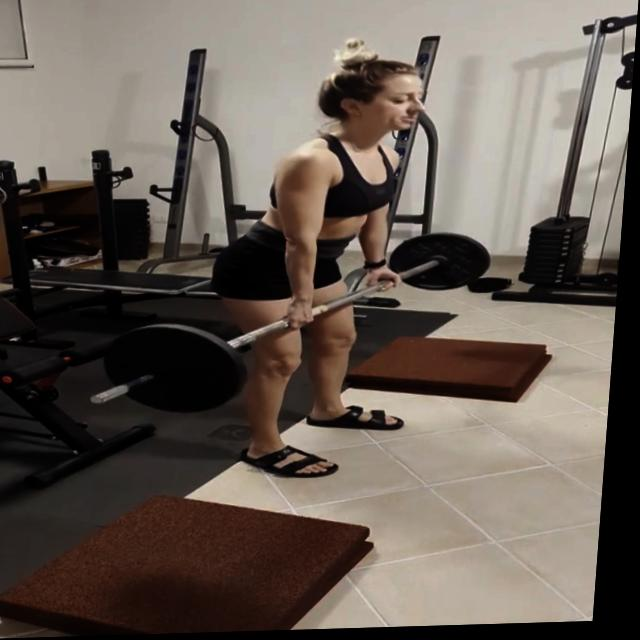barbell: (92, 321, 264, 422)
